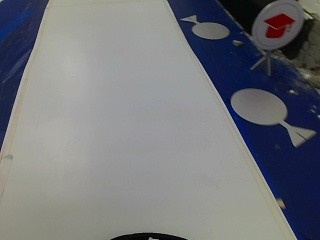school: (257, 3, 300, 51)
